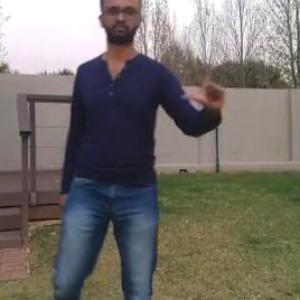land_hand: (179, 53, 235, 118)
